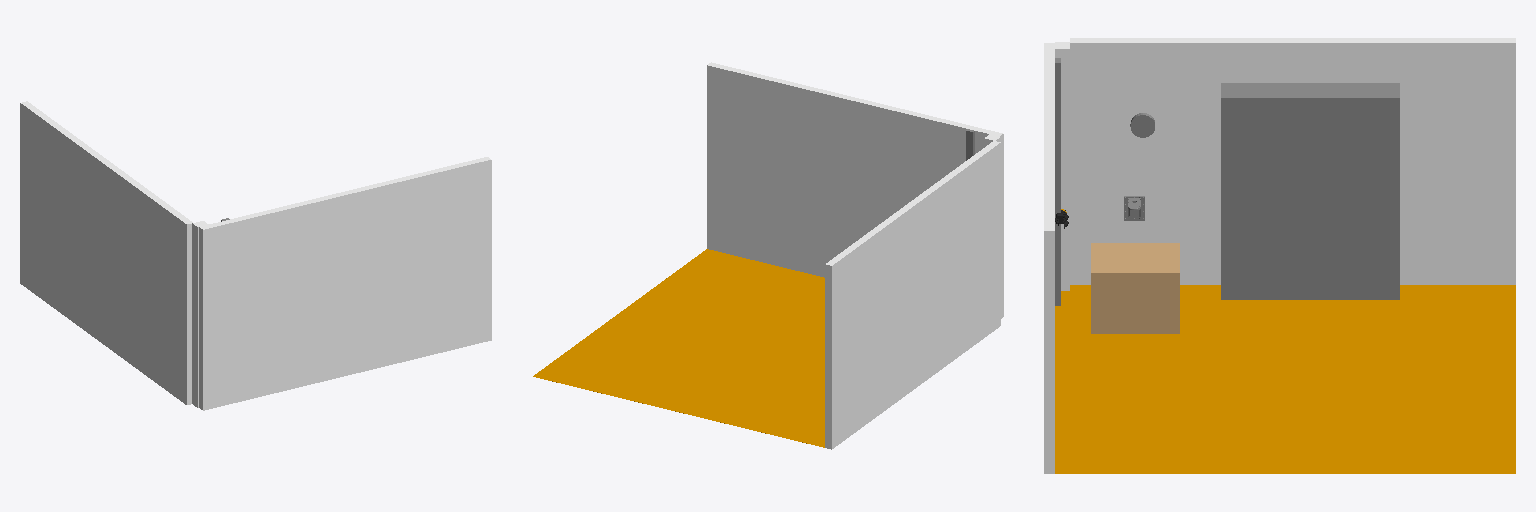
--- Render facts (derived) ---
The picture shows the robot from 3 angles, left to right: view 1: azimuth 30°, elevation 25°; view 2: azimuth 150°, elevation 25°; view 3: azimuth 270°, elevation 25°; orthographic projection.
Model tams_ur5_setup with 47 links and 46 joints (17 revolute, 29 fixed), rooted at world, posed joints at zero except 6 at the middle of their limits (s_model_finger_1_joint_1 = 0.6357, s_model_finger_1_joint_3 = -0.637, s_model_finger_2_joint_1 = 0.6357, s_model_finger_2_joint_3 = -0.637, s_model_finger_middle_joint_1 = 0.6357, s_model_finger_middle_joint_3 = -0.637).
Links seen in each view (by area): view 1: side_wall, wall, small_wall; view 2: side_wall, floor, wall; view 3: floor, wall, shelf, table, side_wall, small_wall, cable_duct, ur5_mount.
Link boxes in pixels (left/top/right/bottom): side_wall: left=199, top=157, right=491, bottom=410; wall: left=20, top=101, right=192, bottom=404; small_wall: left=192, top=221, right=208, bottom=407; side_wall: left=707, top=62, right=1003, bottom=318; floor: left=533, top=249, right=824, bottom=447; wall: left=825, top=141, right=1000, bottom=449; floor: left=1055, top=285, right=1515, bottom=473; wall: left=1070, top=38, right=1515, bottom=284; shelf: left=1221, top=83, right=1399, bottom=299; table: left=1091, top=243, right=1179, bottom=333; side_wall: left=1044, top=43, right=1054, bottom=473; small_wall: left=1055, top=42, right=1069, bottom=290; cable_duct: left=1055, top=58, right=1060, bottom=305; ur5_mount: left=1124, top=196, right=1144, bottom=220.
Bounding box of the posed robot: 5.12 × 5.29 × 3 m (x, y, z).
15 mesh visuals loaded from 14 distinct referenced files (7 Collada DAE); not drawn: 7 (reference not matched to a file when rendering).

URDF robot description (tams_ur5_setup):
<?xml version="1.0" ?>
<!-- =================================================================================== -->
<!-- |    This document was autogenerated by xacro from tams/tams_ur5_setup/tams_ur5_setup_description/urdf/tams_ur5_setup.urdf.xacro | -->
<!-- |    EDITING THIS FILE BY HAND IS NOT RECOMMENDED                                 | -->
<!-- =================================================================================== -->
<robot name="tams_ur5_setup" xmlns:xacro="http://www.ros.org/wiki/xacro">
  <!-- tams corner -->
  <material name="white">
    <color rgba="1 1 1 1"/>
  </material>
  <material name="brown">
    <color rgba="0.87 0.72 0.53 1"/>
  </material>
  <material name="lightgray">
    <color rgba="0.6 0.6 0.6 1"/>
  </material>
  <link name="floor">
    <inertial>
      <origin xyz="2.5 2.5 0"/>
      <mass value="2000"/>
      <inertia ixx="1" ixy="0" ixz="0" iyy="1" iyz="0" izz="1"/>
    </inertial>
    <visual>
      <material name="black"/>
      <origin xyz="2.5 2.4175 0"/>
      <geometry>
        <box size="5.0 5.165 0.001"/>
      </geometry>
    </visual>
    <collision>
      <origin xyz="2.5 2.4175 0"/>
      <geometry>
        <box size="5.0 5.165 0.001"/>
      </geometry>
    </collision>
  </link>
  <gazebo reference="floor">
    <material>Gazebo/Blue</material>
    <turnGravityOff>false</turnGravityOff>
    <selfCollide>true</selfCollide>
    <!-- kp: stiffness kd: damping mu1, mu2: friction -->
    <mu1>100.0</mu1>
    <mu2>100.0</mu2>
    <kp>1000000.0</kp>
    <kd>1.0</kd>
  </gazebo>
  <link name="wall">
    <inertial>
      <origin xyz="-0.06 2.5 1.5"/>
      <mass value="2000"/>
      <inertia ixx="1" ixy="0" ixz="0" iyy="1" iyz="0" izz="1"/>
    </inertial>
    <visual>
      <material name="white"/>
      <origin xyz="-0.06 2.5 1.5"/>
      <geometry>
        <box size="0.12 5.0 3.0"/>
      </geometry>
    </visual>
    <collision>
      <origin xyz="-0.06 2.5 1.5"/>
      <geometry>
        <box size="0.12 5.0 3.0"/>
      </geometry>
    </collision>
  </link>
  <gazebo reference="wall">
    <material>Gazebo/Blue</material>
    <turnGravityOff>false</turnGravityOff>
    <selfCollide>true</selfCollide>
    <!-- kp: stiffness kd: damping mu1, mu2: friction -->
    <mu1>100.0</mu1>
    <mu2>100.0</mu2>
    <kp>1000000.0</kp>
    <kd>1.0</kd>
  </gazebo>
  <!-- tilted ur5 mount - the meshes are not centered at mount point so they are adjusted to fit to the frame -->
  <link name="ur5_mount">
    <visual>
      <material name="lightgray"/>
      <origin xyz="-0.0245 -0.09 -0.28"/>
      <geometry>
        <mesh filename="package://tams_ur5_setup_description/meshes/ur5_mount_binary_v3.dae" scale="0.001 0.001 0.001"/>
      </geometry>
    </visual>
    <collision>
      <origin xyz="-0.0245 -0.09 -0.28"/>
      <geometry>
        <mesh filename="package://tams_ur5_setup_description/meshes/ur5_mount_binary_v3.dae" scale="0.001 0.001 0.001"/>
      </geometry>
    </collision>
  </link>
  <link name="side_wall">
    <inertial>
      <origin xyz="0 0 0"/>
      <mass value="2000"/>
      <inertia ixx="1" ixy="0" ixz="0" iyy="1" iyz="0" izz="1"/>
    </inertial>
    <visual>
      <material name="white"/>
      <origin xyz="0 0 0"/>
      <geometry>
        <box size="5.0 0.12 3.0"/>
      </geometry>
    </visual>
    <collision>
      <origin xyz="0 0 0.0"/>
      <geometry>
        <box size="5.0 0.12 3.0"/>
      </geometry>
    </collision>
  </link>
  <gazebo reference="side_wall">
    <material>Gazebo/Blue</material>
    <turnGravityOff>false</turnGravityOff>
    <selfCollide>true</selfCollide>
    <!-- kp: stiffness kd: damping mu1, mu2: friction -->
    <mu1>100.0</mu1>
    <mu2>100.0</mu2>
    <kp>1000000.0</kp>
    <kd>1.0</kd>
  </gazebo>
  <link name="small_wall">
    <inertial>
      <origin xyz="0 0 0"/>
      <mass value="2000"/>
      <inertia ixx="1" ixy="0" ixz="0" iyy="1" iyz="0" izz="1"/>
    </inertial>
    <visual>
      <material name="white"/>
      <origin xyz="0 0 0"/>
      <geometry>
        <box size="0.19 0.165 3.0"/>
      </geometry>
    </visual>
    <collision>
      <origin xyz="0 0 0.0"/>
      <geometry>
        <!-- the collision model is 7cm wider due to security reasons -->
        <box size="0.33 0.305 3.0"/>
      </geometry>
    </collision>
  </link>
  <gazebo reference="small_wall">
    <material>Gazebo/Blue</material>
    <turnGravityOff>false</turnGravityOff>
    <selfCollide>true</selfCollide>
    <!-- kp: stiffness kd: damping mu1, mu2: friction -->
    <mu1>100.0</mu1>
    <mu2>100.0</mu2>
    <kp>1000000.0</kp>
    <kd>1.0</kd>
  </gazebo>
  <link name="cable_duct">
    <inertial>
      <origin xyz="0 0 0"/>
      <mass value="2000"/>
      <inertia ixx="1" ixy="0" ixz="0" iyy="1" iyz="0" izz="1"/>
    </inertial>
    <visual>
      <material name="lightgray"/>
      <origin xyz="0 0 0"/>
      <geometry>
        <box size="0.13 0.06 3.0"/>
      </geometry>
    </visual>
    <collision>
      <origin xyz="0 0 0"/>
      <geometry>
        <!-- the collision model is 7cm wider then the actual duct, because of an unmodelled ethernet port -->
        <box size="0.27 0.2 3.0"/>
      </geometry>
    </collision>
  </link>
  <gazebo reference="cable_duct">
    <material>Gazebo/Blue</material>
    <turnGravityOff>false</turnGravityOff>
    <selfCollide>true</selfCollide>
    <!-- kp: stiffness kd: damping mu1, mu2: friction -->
    <mu1>100.0</mu1>
    <mu2>100.0</mu2>
    <kp>1000000.0</kp>
    <kd>1.0</kd>
  </gazebo>
  <link name="table">
    <inertial>
      <origin xyz="0 0 0.375"/>
      <mass value="10"/>
      <inertia ixx="1" ixy="0" ixz="0" iyy="1" iyz="0" izz="1"/>
    </inertial>
    <visual>
      <material name="brown"/>
      <origin xyz="0 0 0.375"/>
      <geometry>
        <box size="0.80 1.0 0.75"/>
      </geometry>
    </visual>
    <!-- <collision>
      <origin xyz="0 0 ${tableheight/2}" />
      <geometry>
        <box size="0.80 1.0 ${tableheight}" />
      </geometry>
    </collision>  -->
    <collision>
      <origin xyz="-0.2 0 0.375"/>
      <geometry>
        <box size="1.2 1.0 0.75"/>
      </geometry>
    </collision>
  </link>
  <gazebo reference="table">
    <material>Gazebo/Blue</material>
    <turnGravityOff>false</turnGravityOff>
    <selfCollide>true</selfCollide>
    <!-- kp: stiffness kd: damping mu1, mu2: friction -->
    <mu1>100.0</mu1>
    <mu2>100.0</mu2>
    <kp>1000000.0</kp>
    <kd>1.0</kd>
  </gazebo>
  <link name="table_top"/>
  <link name="shelf">
    <inertial>
      <origin xyz="1.7 0 0"/>
      <mass value="60"/>
      <inertia ixx="1" ixy="0" ixz="0" iyy="1" iyz="0" izz="1"/>
    </inertial>
    <visual>
      <material name="lightgray"/>
      <origin xyz="0 1.7 0"/>
      <geometry>
        <box size="0.4 2 2.5"/>
      </geometry>
    </visual>
    <collision>
      <origin xyz="0 1.7 0"/>
      <geometry>
        <!-- the collision model is 7cm wider due to security reasons -->
        <box size="0.54 2.14 2.5"/>
      </geometry>
    </collision>
  </link>
  <gazebo reference="shelf">
    <material>Gazebo/Orange</material>
    <turnGravityOff>false</turnGravityOff>
    <selfCollide>true</selfCollide>
    <!-- kp: stiffness kd: damping mu1, mu2: friction -->
    <mu1>100.0</mu1>
    <mu2>100.0</mu2>
    <kp>1000000.0</kp>
    <kd>1.0</kd>
  </gazebo>
  <link name="april_tag_ur5">
    <inertial>
      <origin xyz="0 0 0"/>
      <mass value="2000"/>
      <inertia ixx="1" ixy="0" ixz="0" iyy="1" iyz="0" izz="1"/>
    </inertial>
    <visual>
      <material name="lightgray"/>
      <origin xyz="0 0 0"/>
      <geometry>
        <box size="0.166 0.166 0.01"/>
      </geometry>
    </visual>
    <collision>
      <origin xyz="0 0 0.0"/>
      <geometry>
        <box size="0.166 0.166 0.01"/>
      </geometry>
    </collision>
  </link>
  <gazebo reference="april_tag_ur5">
    <material>Gazebo/Blue</material>
    <turnGravityOff>false</turnGravityOff>
    <selfCollide>true</selfCollide>
    <mu1>100.0</mu1>
    <mu2>100.0</mu2>
    <kp>1000000.0</kp>
    <kd>1.0</kd>
  </gazebo>
  <link name="clock">
    <inertial>
      <origin xyz="0 0 0"/>
      <mass value="2000"/>
      <inertia ixx="1" ixy="0" ixz="0" iyy="1" iyz="0" izz="1"/>
    </inertial>
    <visual>
      <material name="lightgray"/>
      <origin xyz="0 0 0"/>
      <geometry>
        <cylinder length="0.06" radius="0.14"/>
      </geometry>
    </visual>
    <collision>
      <origin xyz="0 0 0.0"/>
      <geometry>
        <cylinder length="0.06" radius="0.14"/>
      </geometry>
    </collision>
  </link>
  <link name="turtlebot"/>
  <link name="turtlebot_holder"/>
  <joint name="floor_wall_joint" type="fixed">
    <parent link="floor"/>
    <child link="wall"/>
    <!-- The actual wall in the lab is slightly tilted, the rotation compensates approx 1 deg -->
    <origin rpy="0 0 0" xyz="0 0 0"/>
    <!--<origin xyz="0 0 0" rpy="0 0.06 0" />-->
  </joint>
  <joint name="wall_mount_joint" type="fixed">
    <parent link="wall"/>
    <child link="ur5_mount"/>
    <origin rpy="0 0 3.14159265" xyz="0.2255 0.7245 1.085"/>
  </joint>
  <joint name="side_wall_joint" type="fixed">
    <parent link="floor"/>
    <child link="side_wall"/>
    <!--<origin xyz="2.5 -0.06 1.5" rpy="0 0 0" />-->
    <origin rpy="0 0 0" xyz="2.5 -0.225 1.5"/>
  </joint>
  <joint name="small_wall_joint" type="fixed">
    <parent link="floor"/>
    <child link="small_wall"/>
    <!--<origin xyz="2.5 -0.06 1.5" rpy="0 0 0" />-->
    <origin rpy="0 0 0" xyz="0.07 -0.0825 1.5"/>
  </joint>
  <joint name="cable_duct_joint" type="fixed">
    <parent link="floor"/>
    <child link="cable_duct"/>
    <origin rpy="0 0 0" xyz="0.475 -0.135 1.5"/>
  </joint>
  <joint name="table_joint" type="fixed">
    <parent link="floor"/>
    <child link="table"/>
    <!-- actual wall is 2.5cm further back from table, but is modelled at the position of the small ur5 adapter plate -->
    <!-- <origin xyz="0.75 0.3 0" rpy="0 0 0" /> -->
    <origin rpy="0 0 0" xyz="0.89 0.74 0"/>
  </joint>
  <joint name="table_top_joint" type="fixed">
    <parent link="table"/>
    <child link="table_top"/>
    <origin rpy="0 0 0" xyz="0 0 0.75"/>
  </joint>
  <joint name="shelf_joint" type="fixed">
    <parent link="floor"/>
    <child link="shelf"/>
    <!-- actual shelf is a little smaller -->
    <origin rpy="0 0 0" xyz="0.2 1 1.25"/>
  </joint>
  <joint name="apriltag_ur5_joint" type="fixed">
    <parent link="wall"/>
    <child link="april_tag_ur5"/>
    <!--<origin xyz="-0.015 0.75 1.494" rpy="${-pi/2-0.05} 0.0 ${-pi/2}" />-->
    <!-- offset relative to the tilted wall -->
    <origin rpy="-1.570796325 0.0 -1.570796325" xyz="-0.01 0.75 1.494"/>
    <!-- offset relative to the tilted wall -->
  </joint>
  <joint name="clock_joint" type="fixed">
    <parent link="wall"/>
    <child link="clock"/>
    <origin rpy="-1.570796325 0.0 -1.570796325" xyz="0.03 0.82 1.993"/>
    <!-- offset relative to the tilted wall -->
  </joint>
  <joint name="turtlebot_joint" type="fixed">
    <parent link="world"/>
    <child link="turtlebot"/>
    <origin rpy="0.0 0.0 0.0" xyz="0.26 1.31 0.0"/>
  </joint>
  <joint name="turtlebot_holder_joint" type="fixed">
    <parent link="turtlebot"/>
    <child link="turtlebot_holder"/>
    <origin rpy="0.0 0.0 0.0" xyz="0.04 0.0 0.41"/>
  </joint>
  <!-- arm -->
  <!-- include macro definitions -->
  <!-- Inertia parameters -->
  <!-- This mass might be incorrect -->
  <!-- Kinematic model -->
  <!-- Properties from urcontrol.conf -->
  <!--
    DH for UR5:
    a = [0.00000, -0.42500, -0.39225,  0.00000,  0.00000,  0.0000]
    d = [0.089159,  0.00000,  0.00000,  0.10915,  0.09465,  0.0823]
    alpha = [ 1.570796327, 0, 0, 1.570796327, -1.570796327, 0 ]
    q_home_offset = [0, -1.570796327, 0, -1.570796327, 0, 0]
    joint_direction = [-1, -1, 1, 1, 1, 1]
    mass = [3.7000, 8.3930, 2.2750, 1.2190, 1.2190, 0.1879]
    center_of_mass = [ [0, -0.02561, 0.00193], [0.2125, 0, 0.11336], [0.11993, 0.0, 0.0265], [0, -0.0018, 0.01634], [0, 0.0018,0.01634], [0, 0, -0.001159] ]
  -->
  <!-- Arbitrary offsets for shoulder/elbow joints -->
  <!-- measured from model -->
  <!-- measured from model -->
  <!-- link lengths used in model -->
  <!--property name="shoulder_height" value="0.089159" /-->
  <!--property name="shoulder_offset" value="0.13585" /-->
  <!-- shoulder_offset - elbow_offset + wrist_1_length = 0.10915 -->
  <!--property name="upper_arm_length" value="0.42500" /-->
  <!--property name="elbow_offset" value="0.1197" /-->
  <!-- CAD measured -->
  <!--property name="forearm_length" value="0.39225" /-->
  <!--property name="wrist_1_length" value="0.093" /-->
  <!-- CAD measured -->
  <!--property name="wrist_2_length" value="0.09465" /-->
  <!-- In CAD this distance is 0.930, but in the spec it is 0.09465 -->
  <!--property name="wrist_3_length" value="0.0823" /-->
  <!-- manually measured -->
  <!-- manually measured -->
  <!-- manually measured -->
  <!-- manually measured -->
  <!-- manually measured -->
  <!-- 
    The parameter xamla_cap enables optional support for Xamla's rounded cap (wrist 2), 
    increasing the collision free space. 
    If set, visual and collision meshes are loaded from the files provided in the following
    repository: https://github.com/Xamla/xamla_egomo.
    More information on the cap and the 3D-printable models can be found at:
    https://github.com/Xamla/xamla_egomo/tree/master/egomo_3d_printed_parts/egomo-1  
  -->
  <!-- arm -->
  <link name="ur5_base_link">
    <visual>
      <geometry>
        <mesh filename="package://ur_description/meshes/ur5/visual/base.dae"/>
      </geometry>
      <material name="LightGrey">
        <color rgba="0.7 0.7 0.7 1.0"/>
      </material>
    </visual>
    <collision>
      <geometry>
        <mesh filename="package://ur_description/meshes/ur5/collision/base.stl"/>
      </geometry>
    </collision>
    <inertial>
      <mass value="4.0"/>
      <origin rpy="0 0 0" xyz="0.0 0.0 0.0"/>
      <inertia ixx="0.00443333156" ixy="0.0" ixz="0.0" iyy="0.00443333156" iyz="0.0" izz="0.0072"/>
    </inertial>
  </link>
  <joint name="ur5_shoulder_pan_joint" type="revolute">
    <parent link="ur5_base_link"/>
    <child link="ur5_shoulder_link"/>
    <origin rpy="0.0 0.0 0.0" xyz="0.0 0.0 0.089159"/>
    <axis xyz="0 0 1"/>
    <limit effort="150.0" lower="-3.14159265" upper="3.14159265" velocity="3.15"/>
    <dynamics damping="0.0" friction="0.0"/>
  </joint>
  <link name="ur5_shoulder_link">
    <visual>
      <geometry>
        <mesh filename="package://ur_description/meshes/ur5/visual/shoulder.dae"/>
      </geometry>
      <material name="LightGrey">
        <color rgba="0.7 0.7 0.7 1.0"/>
      </material>
    </visual>
    <collision>
      <geometry>
        <mesh filename="package://ur_description/meshes/ur5/collision/shoulder.stl"/>
      </geometry>
    </collision>
    <inertial>
      <mass value="3.7"/>
      <origin rpy="0 0 0" xyz="0.0 0.0 0.0"/>
      <inertia ixx="0.010267495893" ixy="0.0" ixz="0.0" iyy="0.010267495893" iyz="0.0" izz="0.00666"/>
    </inertial>
  </link>
  <joint name="ur5_shoulder_lift_joint" type="revolute">
    <parent link="ur5_shoulder_link"/>
    <child link="ur5_upper_arm_link"/>
    <origin rpy="0.0 1.570796325 0.0" xyz="0.0 0.13585 0.0"/>
    <axis xyz="0 1 0"/>
    <limit effort="150.0" lower="-3.9269908125" upper="0.7853981625" velocity="3.15"/>
    <dynamics damping="0.0" friction="0.0"/>
  </joint>
  <link name="ur5_upper_arm_link">
    <visual>
      <geometry>
        <mesh filename="package://ur_description/meshes/ur5/visual/upperarm.dae"/>
      </geometry>
      <material name="LightGrey">
        <color rgba="0.7 0.7 0.7 1.0"/>
      </material>
    </visual>
    <collision>
      <geometry>
        <mesh filename="package://ur_description/meshes/ur5/collision/upperarm.stl"/>
      </geometry>
    </collision>
    <inertial>
      <mass value="8.393"/>
      <origin rpy="0 0 0" xyz="0.0 0.0 0.28"/>
      <inertia ixx="0.22689067591" ixy="0.0" ixz="0.0" iyy="0.22689067591" iyz="0.0" izz="0.0151074"/>
    </inertial>
  </link>
  <joint name="ur5_elbow_joint" type="revolute">
    <parent link="ur5_upper_arm_link"/>
    <child link="ur5_forearm_link"/>
    <origin rpy="0.0 0.0 0.0" xyz="0.0 -0.1197 0.425"/>
    <axis xyz="0 1 0"/>
    <limit effort="150.0" lower="-3.14159265" upper="0.0" velocity="3.15"/>
    <dynamics damping="0.0" friction="0.0"/>
  </joint>
  <link name="ur5_forearm_link">
    <visual>
      <geometry>
        <mesh filename="package://ur_description/meshes/ur5/visual/forearm.dae"/>
      </geometry>
      <material name="LightGrey">
        <color rgba="0.7 0.7 0.7 1.0"/>
      </material>
    </visual>
    <collision>
      <geometry>
        <mesh filename="package://ur_description/meshes/ur5/collision/forearm.stl"/>
      </geometry>
    </collision>
    <inertial>
      <mass value="2.275"/>
      <origin rpy="0 0 0" xyz="0.0 0.0 0.25"/>
      <inertia ixx="0.049443313556" ixy="0.0" ixz="0.0" iyy="0.049443313556" iyz="0.0" izz="0.004095"/>
    </inertial>
  </link>
  <joint name="ur5_wrist_1_joint" type="revolute">
    <parent link="ur5_forearm_link"/>
    <child link="ur5_wrist_1_link"/>
    <origin rpy="0.0 1.570796325 0.0" xyz="0.0 0.0 0.39225"/>
    <axis xyz="0 1 0"/>
    <limit effort="28.0" lower="-3.14159265" upper="3.14159265" velocity="3.2"/>
    <dynamics damping="0.0" friction="0.0"/>
  </joint>
  <link name="ur5_wrist_1_link">
    <visual>
      <geometry>
        <mesh filename="package://ur_description/meshes/ur5/visual/wrist1.dae"/>
      </geometry>
      <material name="LightGrey">
        <color rgba="0.7 0.7 0.7 1.0"/>
      </material>
    </visual>
    <collision>
      <geometry>
        <mesh filename="package://ur_description/meshes/ur5/collision/wrist1.stl"/>
      </geometry>
    </collision>
    <inertial>
      <mass value="1.219"/>
      <origin rpy="0 0 0" xyz="0.0 0.0 0.0"/>
      <inertia ixx="0.111172755531" ixy="0.0" ixz="0.0" iyy="0.111172755531" iyz="0.0" izz="0.21942"/>
    </inertial>
  </link>
  <joint name="ur5_wrist_2_joint" type="revolute">
    <parent link="ur5_wrist_1_link"/>
    <child link="ur5_wrist_2_link"/>
    <origin rpy="0.0 0.0 0.0" xyz="0.0 0.093 0.0"/>
    <axis xyz="0 0 1"/>
    <!-- <xacro:unless value="${joint_limited}">
        <limit lower="${-2.0 * pi}" upper="${2.0 * pi}" effort="28.0" velocity="3.2"/>
      </xacro:unless>
      <xacro:if value="${joint_limited}">
        <limit lower="${-pi}" upper="${pi}" effort="28.0" velocity="3.2"/>
      </xacro:if>-->
    <limit effort="28.0" lower="-6.2831853" upper="6.2831853" velocity="3.2"/>
    <dynamics damping="0.0" friction="0.0"/>
  </joint>
  <link name="ur5_wrist_2_link">
    <visual>
      <geometry>
        <mesh filename="package://ur_description/meshes/ur5/visual/wrist2_rounded.dae"/>
      </geometry>
      <material name="LightGrey">
        <color rgba="0.7 0.7 0.7 1.0"/>
      </material>
    </visual>
    <collision>
      <geometry>
        <mesh filename="package://ur_description/meshes/ur5/collision/wrist2_rounded.stl"/>
      </geometry>
    </collision>
    <inertial>
      <mass value="1.219"/>
      <origin rpy="0 0 0" xyz="0.0 0.0 0.0"/>
      <inertia ixx="0.111172755531" ixy="0.0" ixz="0.0" iyy="0.111172755531" iyz="0.0" izz="0.21942"/>
    </inertial>
  </link>
  <joint name="ur5_wrist_3_joint" type="revolute">
    <parent link="ur5_wrist_2_link"/>
    <child link="ur5_wrist_3_link"/>
    <origin rpy="0.0 0.0 0.0" xyz="0.0 0.0 0.09465"/>
    <axis xyz="0 1 0"/>
    <!-- <xacro:unless value="${joint_limited}">
        <limit lower="${-2.0 * pi}" upper="${2.0 * pi}" effort="28.0" velocity="3.2"/>
      </xacro:unless>
      <xacro:if value="${joint_limited}">
        <limit lower="${-pi}" upper="${pi}" effort="28.0" velocity="3.2"/>
      </xacro:if>-->
    <limit effort="28.0" lower="-6.2831853" upper="6.2831853" velocity="3.2"/>
    <dynamics damping="0.0" friction="0.0"/>
  </joint>
  <link name="ur5_wrist_3_link">
    <visual>
      <geometry>
        <mesh filename="package://ur_description/meshes/ur5/visual/wrist3.dae"/>
      </geometry>
      <material name="LightGrey">
        <color rgba="0.7 0.7 0.7 1.0"/>
      </material>
    </visual>
    <collision>
      <geometry>
        <mesh filename="package://ur_description/meshes/ur5/collision/wrist3.stl"/>
      </geometry>
    </collision>
    <inertial>
      <mass value="0.1879"/>
      <origin rpy="0 0 0" xyz="0.0 0.0 0.0"/>
      <inertia ixx="0.0171364731454" ixy="0.0" ixz="0.0" iyy="0.0171364731454" iyz="0.0" izz="0.033822"/>
    </inertial>
  </link>
  <joint name="ur5_ee_fixed_joint" type="fixed">
    <parent link="ur5_wrist_3_link"/>
    <child link="ur5_ee_link"/>
    <origin rpy="0.0 0.0 1.570796325" xyz="0.0 0.0823 0.0"/>
  </joint>
  <link name="ur5_ee_link">
    <collision>
      <geometry>
        <box size="0.01 0.01 0.01"/>
      </geometry>
      <origin rpy="0 0 0" xyz="-0.01 0 0"/>
    </collision>
  </link>
  <transmission name="ur5_shoulder_pan_trans">
    <type>transmission_interface/SimpleTransmission</type>
    <joint name="ur5_shoulder_pan_joint">
      <hardwareInterface>PositionJointInterface</hardwareInterface>
    </joint>
    <actuator name="ur5_shoulder_pan_motor">
      <mechanicalReduction>1</mechanicalReduction>
    </actuator>
  </transmission>
  <transmission name="ur5_shoulder_lift_trans">
    <type>transmission_interface/SimpleTransmission</type>
    <joint name="ur5_shoulder_lift_joint">
      <hardwareInterface>PositionJointInterface</hardwareInterface>
    </joint>
    <actuator name="ur5_shoulder_lift_motor">
      <mechanicalReduction>1</mechanicalReduction>
    </actuator>
  </transmission>
  <transmission name="ur5_elbow_trans">
    <type>transmission_interface/SimpleTransmission</type>
    <joint name="ur5_elbow_joint">
      <hardwareInterface>PositionJointInterface</hardwareInterface>
    </joint>
    <actuator name="ur5_elbow_motor">
      <mechanicalReduction>1</mechanicalReduction>
    </actuator>
  </transmission>
  <transmission name="ur5_wrist_1_trans">
    <type>transmission_interface/SimpleTransmission</type>
    <joint name="ur5_wrist_1_joint">
      <hardwareInterface>PositionJointInterface</hardwareInterface>
    </joint>
    <actuator name="ur5_wrist_1_motor">
      <mechanicalReduction>1</mechanicalReduction>
    </actuator>
  </transmission>
  <transmission name="ur5_wrist_2_trans">
    <type>transmission_interface/SimpleTransmission</type>
    <joint name="ur5_wrist_2_joint">
      <hardwareInterface>PositionJointInterface</hardwareInterface>
    </joint>
    <actuator name="ur5_wrist_2_motor">
      <mechanicalReduction>1</mechanicalReduction>
    </actuator>
  </transmission>
  <transmission name="ur5_wrist_3_trans">
    <type>transmission_interface/SimpleTransmission</type>
    <joint name="ur5_wrist_3_joint">
      <hardwareInterface>PositionJointInterface</hardwareInterface>
    </joint>
    <actuator name="ur5_wrist_3_motor">
      <mechanicalReduction>1</mechanicalReduction>
    </actuator>
  </transmission>
  <!-- nothing to do here at the moment -->
  <!-- ROS base_link to UR 'Base' Coordinates transform -->
  <link name="ur5_base"/>
  <joint name="ur5_base_link-base_fixed_joint" type="fixed">
    <!-- NOTE: this rotation is only needed as long as base_link itself is
                 not corrected wrt the real robot (ie: rotated over 180
                 degrees)
      -->
    <origin rpy="0 0 -3.14159265" xyz="0 0 0"/>
    <parent link="ur5_base_link"/>
    <child link="ur5_base"/>
  </joint>
  <!-- Frame coincident with all-zeros TCP on UR controller -->
  <link name="ur5_tool0"/>
  <joint name="ur5_wrist_3_link-tool0_fixed_joint" type="fixed">
    <origin rpy="-1.570796325 0 0" xyz="0 0.0823 0"/>
    <parent link="ur5_wrist_3_link"/>
    <child link="ur5_tool0"/>
  </joint>
  <!-- ft_adapter -->
  <link name="ft_adapter">
    <!-- TODO values for inertial are not correct -->
    <inertial>
      <mass value="0.2"/>
      <origin xyz="0.0 0.0 0.0"/>
      <inertia ixx="0.002708332" ixy="0.0" ixz="0.0" iyy="0.000708333" iyz="0.0" izz="0.003333332"/>
    </inertial>
    <visual>
      <origin rpy="0 0 0.0" xyz="0.0 0 0.0"/>
      <geometry>
        <box size="0.088 0.088 0.009"/>
      </geometry>
      <material name="gray">
        <color rgba="0.2 0.2 0.2 1"/>
      </material>
    </visual>
    <collision>
      <origin rpy="0 0 0.0" xyz="0.0 0 0.0"/>
      <geometry>
        <box size="0.088 0.088 0.009"/>
      </geometry>
    </collision>
  </link>
  <joint name="ft_adapter_joint" type="fixed">
    <origin rpy="0.0 1.570796325 0.0" xyz="0.0045 0.0 0.0"/>
    <child link="ft_adapter"/>
    <parent link="ur5_ee_link"/>
  </joint>
  <!-- ft150 -->
  <!-- mount the fts to the robot -->
  <joint name="ft_fts_fix" type="fixed">
    <!--In most cases origin would be flange adapter plate: <origin xyz="0 0 0.009" rpy="0 0 0"/> /-->
    <origin rpy="0.0 -1.570796325 3.14159265" xyz="0.009 0.0 0.0"/>
    <parent link="ur5_ee_link"/>
    <child link="ft_fts_robotside"/>
  </joint>
  <link name="ft_fts_robotside">
    <inertial>
      <origin rpy="0 0 0" xyz="0 0 0.01875"/>
      <mass value="0.65"/>
      <inertia ixx="0.000661171875" ixy="0" ixz="0" iyy="0.000661171875" iyz="0" izz="0.00117"/>
    </inertial>
    <visual>
      <origin rpy="0 0 0" xyz="0 0 0"/>
      <geometry>
        <mesh filename="package://robotiq_force_torque_sensor/meshes/visual/robotiq_fts150.dae"/>
      </geometry>
      <material name="black"/>
    </visual>
    <collision>
      <origin rpy="0 0 0" xyz="0 0 0"/>
      <geometry>
        <mesh filename="package://robotiq_force_torque_sensor/meshes/collision/robotiq_fts150.dae"/>
      </geometry>
    </collision>
  </link>
  <!-- virtual measurement frame -->
  <joint name="ft_measurment_joint" type="fixed">
    <origin rpy="0 0 0" xyz="0 0 0.01625"/>
    <parent link="ft_fts_robotside"/>
    <child link="ft_robotiq_force_torque_frame_id"/>
  </joint>
  <link name="ft_robotiq_force_torque_frame_id"/>
  <!-- toolside frame -->
  <joint name="ft_toolside_joint" type="fixed">
    <origin rpy="0 0 0" xyz="0 0 0.0375"/>
    <parent link="ft_fts_robotside"/>
    <child link="ft_fts_toolside"/>
  </joint>
  <link name="ft_fts_toolside"/>
  <!-- tool0 frame -->
  <link name="tool0"/>
  <joint name="ft_fts_toolside_tool0" type="fixed">
    <parent link="ft_fts_toolside"/>
    <child link="tool0"/>
    <origin rpy="0.0 -1.570796325 0.0" xyz="0.0 0.0 0.0"/>
  </joint>
  <!-- s_model_adapter -->
  <link name="s_model_adapter">
    <!-- TODO values for inertial are not correct -->
    <inertial>
      <mass value="0.2"/>
      <origin xyz="0.0 0.0 0.0"/>
      <inertia ixx="0.002708332" ixy="0.0" ixz="0.0" iyy="0.000708333" iyz="0.0" izz="0.003333332"/>
    </inertial>
    <visual>
      <origin rpy="0 0 0.0" xyz="0.0 0 0.0"/>
      <geometry>
        <cylinder length="0.035" radius="0.06"/>
      </geometry>
      <material name="gray">
        <color rgba="0.2 0.2 0.2 1"/>
      </material>
    </visual>
    <visual>
      <origin rpy="0 0 0.0" xyz="0.0725 0 0"/>
      <geometry>
        <box size="0.035 0.035 0.035"/>
      </geometry>
      <material name="gray">
        <color rgba="0.2 0.2 0.2 1"/>
      </material>
    </visual>
    <collision>
      <origin rpy="0 0 0.0" xyz="0.0 0 0.0"/>
      <geometry>
        <cylinder length="0.035" radius="0.06"/>
      </geometry>
    </collision>
    <collision>
      <origin rpy="0 0 0.0" xyz="0.0725 0 0"/>
      <geometry>
        <box size="0.035 0.035 0.035"/>
      </geometry>
    </collision>
  </link>
  <joint name="s_model_adapter_joint" type="fixed">
    <origin rpy="0.0 0.0 0.0" xyz="0.0 0.0 0.015"/>
    <child link="s_model_adapter"/>
    <parent link="ft_fts_toolside"/>
  </joint>
  <!-- the adaptive gripper -->
  <!-- link list -->
  <link name="s_model_finger_1_link_0">
    <visual>
      <origin rpy="0 0 0" xyz="0.020 0 0"/>
      <geometry>
        <mesh filename="package://robotiq_s_model_visualization/meshes/s-model_articulated/visual/link_0.dae"/>
      </geometry>
      <material name="gray">
        <color rgba="0.2 0.2 0.2 1"/>
      </material>
    </visual>
    <collision>
      <origin rpy="0 0 0" xyz="0.020 0 0"/>
      <geometry>
        <mesh filename="package://robotiq_s_model_visualization/meshes/s-model_articulated/collision/link_0.dae"/>
      </geometry>
      <material name="yellow">
        <color rgba="0 1 1 1"/>
      </material>
    </collision>
    <inertial>
      <origin rpy="0 0 0" xyz="0 0 0"/>
      <mass value="0.05"/>
      <inertia ixx="0.01" ixy="-0.00002" ixz="0.00001" iyy="0.0008" iyz="0" izz="0.001"/>
    </inertial>
  </link>
  <link name="s_model_finger_1_link_1">
    <visual>
      <origin rpy="0 0 -0.52" xyz="0.050 -.028 0"/>
      <geometry>
        <mesh filename="package://robotiq_s_model_visualization/meshes/s-model_articulated/visual/link_1.dae"/>
      </geometry>
      <material name="gray"/>
    </visual>
    <collision>
      <origin rpy="0 0 -0.52" xyz="0.050 -.028 0"/>
      <geometry>
        <mesh filename="package://robotiq_s_model_visualization/meshes/s-model_articulated/collision/link_1.dae"/>
      </geometry>
      <material name="yellow"/>
    </collision>
    <inertial>
      <origin rpy="0 0 0" xyz="0 0 0"/>
      <mass value="0.15"/>
      <inertia ixx="0.001859" ixy="-0.000376" ixz="0.000028" iyy="0.012756" iyz="0" izz="0.0024"/>
    </inertial>
  </link>
  <link name="s_model_finger_1_link_2">
    <!--
			NOTE: This link has an offset in the z-direction based on the models that were
			used to generate grap-it poses.  With the offset below the model appears visually
			correct, but it is suspect.
			-->
    <visual>
      <origin rpy="0 0 0" xyz="0.039 0 0.0075"/>
      <geometry>
        <mesh filename="package://robotiq_s_model_visualization/meshes/s-model_articulated/visual/link_2.dae"/>
      </geometry>
      <material name="gray"/>
    </visual>
    <collision>
      <origin rpy="0 0 0" xyz="0.039 0 0.0075"/>
      <geometry>
        <mesh filename="package://robotiq_s_model_visualization/meshes/s-model_articulated/collision/link_2.dae"/>
      </geometry>
      <material name="yellow"/>
    </collision>
    <inertial>
      <origin rpy="0 0 0" xyz="0 0 0"/>
      <mass value="0.15"/>
      <inertia ixx="0.001859" ixy="-0.000376" ixz="0.000028" iyy="0.012756" iyz="0" izz="0.0024"/>
    </inertial>
  </link>
  <link name="s_model_finger_1_link_3">
    <visual>
      <origin rpy="0 0 0.52" xyz="0 0 0"/>
      <geometry>
        <mesh filename="package://robotiq_s_model_visualization/meshes/s-model_articulated/visual/link_3.dae"/>
      </geometry>
      <material name="gray"/>
    </visual>
    <collision>
      <origin rpy="0 0 0.52" xyz="0 0 0"/>
      <geometry>
        <mesh filename="package://robotiq_s_model_visualization/meshes/s-model_articulated/collision/link_3.dae"/>
      </geometry>
      <material name="yellow"/>
    </collision>
    <inertial>
      <origin rpy="0 0 0" xyz="0 0 0"/>
      <mass value="0.05"/>
      <inertia ixx="0.001239" ixy="-0.000251" ixz="0.000019" iyy="0.00085" iyz="0" izz="0.001632"/>
    </inertial>
  </link>
  <!-- end of link list -->
  <!-- joint list -->
  <joint name="s_model_finger_1_joint_1" type="revolute">
    <parent link="s_model_finger_1_link_0"/>
    <child link="s_model_finger_1_link_1"/>
    <axis xyz="0 0 1"/>
    <origin rpy="0 0 0" xyz="0.020 0 0"/>
    <limit effort="100" lower="0.0495" upper="1.2218" velocity="100"/>
  </joint>
  <joint name="s_model_finger_1_joint_2" type="revolute">
    <parent link="s_model_finger_1_link_1"/>
    <child link="s_model_finger_1_link_2"/>
    <axis xyz="0 0 1"/>
    <origin rpy="0 0 -0.52" xyz="0.050 -.028 0"/>
    <limit effort="100" lower="0.0" upper="1.5708" velocity="100"/>
  </joint>
  <joint name="s_model_finger_1_joint_3" type="revolute">
    <parent link="s_model_finger_1_link_2"/>
    <child link="s_model_finger_1_link_3"/>
    <axis xyz="0 0 1"/>
    <origin rpy="0 0 0" xyz="0.039 0 0"/>
    <limit effort="100" lower="-1.2217" upper="-0.0523" velocity="100"/>
  </joint>
  <!-- end of joint list -->
  <!-- link list -->
  <link name="s_model_finger_2_link_0">
    <visual>
      <origin rpy="0 0 0" xyz="0.020 0 0"/>
      <geometry>
        <mesh filename="package://robotiq_s_model_visualization/meshes/s-model_articulated/visual/link_0.dae"/>
      </geometry>
      <material name="gray">
        <color rgba="0.2 0.2 0.2 1"/>
      </material>
    </visual>
    <collision>
      <origin rpy="0 0 0" xyz="0.020 0 0"/>
      <geometry>
        <mesh filename="package://robotiq_s_model_visualization/meshes/s-model_articulated/collision/link_0.dae"/>
      </geometry>
      <material name="yellow">
        <color rgba="0 1 1 1"/>
      </material>
    </collision>
    <inertial>
      <origin rpy="0 0 0" xyz="0 0 0"/>
      <mass value="0.05"/>
      <inertia ixx="0.01" ixy="-0.00002" ixz="0.00001" iyy="0.0008" iyz="0" izz="0.001"/>
    </inertial>
  </link>
  <link name="s_model_finger_2_link_1">
    <visual>
      <origin rpy="0 0 -0.52" xyz="0.050 -.028 0"/>
      <geometry>
        <mesh filename="package://robotiq_s_model_visualization/meshes/s-model_articulated/visual/link_1.dae"/>
      </geometry>
      <material name="gray"/>
    </visual>
    <collision>
      <origin rpy="0 0 -0.52" xyz="0.050 -.028 0"/>
      <geometry>
        <mesh filename="package://robotiq_s_model_visualization/meshes/s-model_articulated/collision/link_1.dae"/>
      </geometry>
      <material name="yellow"/>
    </collision>
    <inertial>
      <origin rpy="0 0 0" xyz="0 0 0"/>
      <mass value="0.15"/>
      <inertia ixx="0.001859" ixy="-0.000376" ixz="0.000028" iyy="0.012756" iyz="0" izz="0.0024"/>
    </inertial>
  </link>
  <link name="s_model_finger_2_link_2">
    <!--
			NOTE: This link has an offset in the z-direction based on the models that were
			used to generate grap-it poses.  With the offset below the model appears visually
			correct, but it is suspect.
			-->
    <visual>
      <origin rpy="0 0 0" xyz="0.039 0 0.0075"/>
      <geometry>
        <mesh filename="package://robotiq_s_model_visualization/meshes/s-model_articulated/visual/link_2.dae"/>
      </geometry>
      <material name="gray"/>
    </visual>
    <collision>
      <origin rpy="0 0 0" xyz="0.039 0 0.0075"/>
      <geometry>
        <mesh filename="package://robotiq_s_model_visualization/meshes/s-model_articulated/collision/link_2.dae"/>
      </geometry>
      <material name="yellow"/>
    </collision>
    <inertial>
      <origin rpy="0 0 0" xyz="0 0 0"/>
      <mass value="0.15"/>
      <inertia ixx="0.001859" ixy="-0.000376" ixz="0.000028" iyy="0.012756" iyz="0" izz="0.0024"/>
    </inertial>
  </link>
  <link name="s_model_finger_2_link_3">
    <visual>
      <origin rpy="0 0 0.52" xyz="0 0 0"/>
      <geometry>
        <mesh filename="package://robotiq_s_model_visualization/meshes/s-model_articulated/visual/link_3.dae"/>
      </geometry>
      <material name="gray"/>
    </visual>
    <collision>
      <origin rpy="0 0 0.52" xyz="0 0 0"/>
      <geometry>
        <mesh filename="package://robotiq_s_model_visualization/meshes/s-model_articulated/collision/link_3.dae"/>
      </geometry>
      <material name="yellow"/>
    </collision>
    <inertial>
      <origin rpy="0 0 0" xyz="0 0 0"/>
      <mass value="0.05"/>
      <inertia ixx="0.001239" ixy="-0.000251" ixz="0.000019" iyy="0.00085" iyz="0" izz="0.001632"/>
    </inertial>
  </link>
  <!-- end of link list -->
  <!-- joint list -->
  <joint name="s_model_finger_2_joint_1" type="revolute">
    <parent link="s_model_finger_2_link_0"/>
    <child link="s_model_finger_2_link_1"/>
    <axis xyz="0 0 1"/>
    <origin rpy="0 0 0" xyz="0.020 0 0"/>
    <limit effort="100" lower="0.0495" upper="1.2218" velocity="100"/>
  </joint>
  <joint name="s_model_finger_2_joint_2" type="revolute">
    <parent link="s_model_finger_2_link_1"/>
    <child link="s_model_finger_2_link_2"/>
    <axis xyz="0 0 1"/>
    <origin rpy="0 0 -0.52" xyz="0.050 -.028 0"/>
    <limit effort="100" lower="0.0" upper="1.5708" velocity="100"/>
  </joint>
  <joint name="s_model_finger_2_joint_3" type="revolute">
    <parent link="s_model_finger_2_link_2"/>
    <child link="s_model_finger_2_link_3"/>
    <axis xyz="0 0 1"/>
    <origin rpy="0 0 0" xyz="0.039 0 0"/>
    <limit effort="100" lower="-1.2217" upper="-0.0523" velocity="100"/>
  </joint>
  <!-- end of joint list -->
  <!-- link list -->
  <link name="s_model_finger_middle_link_0">
    <visual>
      <origin rpy="0 0 0" xyz="0.020 0 0"/>
      <geometry>
        <mesh filename="package://robotiq_s_model_visualization/meshes/s-model_articulated/visual/link_0.dae"/>
      </geometry>
      <material name="gray">
        <color rgba="0.2 0.2 0.2 1"/>
      </material>
    </visual>
    <collision>
      <origin rpy="0 0 0" xyz="0.020 0 0"/>
      <geometry>
        <mesh filename="package://robotiq_s_model_visualization/meshes/s-model_articulated/collision/link_0.dae"/>
      </geometry>
      <material name="yellow">
        <color rgba="0 1 1 1"/>
      </material>
    </collision>
    <inertial>
      <origin rpy="0 0 0" xyz="0 0 0"/>
      <mass value="0.05"/>
      <inertia ixx="0.01" ixy="-0.00002" ixz="0.00001" iyy="0.0008" iyz="0" izz="0.001"/>
    </inertial>
  </link>
  <link name="s_model_finger_middle_link_1">
    <visual>
      <origin rpy="0 0 -0.52" xyz="0.050 -.028 0"/>
      <geometry>
        <mesh filename="package://robotiq_s_model_visualization/meshes/s-model_articulated/visual/link_1.dae"/>
      </geometry>
      <material name="gray"/>
    </visual>
    <collision>
      <origin rpy="0 0 -0.52" xyz="0.050 -.028 0"/>
      <geometry>
        <mesh filename="package://robotiq_s_model_visualization/meshes/s-model_articulated/collision/link_1.dae"/>
      </geometry>
      <material name="yellow"/>
    </collision>
    <inertial>
      <origin rpy="0 0 0" xyz="0 0 0"/>
      <mass value="0.15"/>
      <inertia ixx="0.001859" ixy="-0.000376" ixz="0.000028" iyy="0.012756" iyz="0" izz="0.0024"/>
    </inertial>
  </link>
  <link name="s_model_finger_middle_link_2">
    <!--
			NOTE: This link has an offset in the z-direction based on the models that were
			used to generate grap-it poses.  With the offset below the model appears visually
			correct, but it is suspect.
			-->
    <visual>
      <origin rpy="0 0 0" xyz="0.039 0 0.0075"/>
      <geometry>
        <mesh filename="package://robotiq_s_model_visualization/meshes/s-model_articulated/visual/link_2.dae"/>
      </geometry>
      <material name="gray"/>
    </visual>
    <collision>
      <origin rpy="0 0 0" xyz="0.039 0 0.0075"/>
      <geometry>
        <mesh filename="package://robotiq_s_model_visualization/meshes/s-model_articulated/collision/link_2.dae"/>
      </geometry>
      <material name="yellow"/>
    </collision>
    <inertial>
      <origin rpy="0 0 0" xyz="0 0 0"/>
      <mass value="0.15"/>
      <inertia ixx="0.001859" ixy="-0.000376" ixz="0.000028" iyy="0.012756" iyz="0" izz="0.0024"/>
    </inertial>
  </link>
  <link name="s_model_finger_middle_link_3">
    <visual>
      <origin rpy="0 0 0.52" xyz="0 0 0"/>
      <geometry>
        <mesh filename="package://robotiq_s_model_visualization/meshes/s-model_articulated/visual/link_3.dae"/>
      </geometry>
      <material name="gray"/>
    </visual>
    <collision>
      <origin rpy="0 0 0.52" xyz="0 0 0"/>
      <geometry>
        <mesh filename="package://robotiq_s_model_visualization/meshes/s-model_articulated/collision/link_3.dae"/>
      </geometry>
      <material name="yellow"/>
    </collision>
    <inertial>
      <origin rpy="0 0 0" xyz="0 0 0"/>
      <mass value="0.05"/>
      <inertia ixx="0.001239" ixy="-0.000251" ixz="0.000019" iyy="0.00085" iyz="0" izz="0.001632"/>
    </inertial>
  </link>
  <!-- end of link list -->
  <!-- joint list -->
  <joint name="s_model_finger_middle_joint_1" type="revolute">
    <parent link="s_model_finger_middle_link_0"/>
    <child link="s_model_finger_middle_link_1"/>
    <axis xyz="0 0 1"/>
    <origin rpy="0 0 0" xyz="0.020 0 0"/>
    <limit effort="100" lower="0.0495" upper="1.2218" velocity="100"/>
  </joint>
  <joint name="s_model_finger_middle_joint_2" type="revolute">
    <parent link="s_model_finger_middle_link_1"/>
    <child link="s_model_finger_middle_link_2"/>
    <axis xyz="0 0 1"/>
    <origin rpy="0 0 -0.52" xyz="0.050 -.028 0"/>
    <limit effort="100" lower="0.0" upper="1.5708" velocity="100"/>
  </joint>
  <joint name="s_model_finger_middle_joint_3" type="revolute">
    <parent link="s_model_finger_middle_link_2"/>
    <child link="s_model_finger_middle_link_3"/>
    <axis xyz="0 0 1"/>
    <origin rpy="0 0 0" xyz="0.039 0 0"/>
    <limit effort="100" lower="-1.2217" upper="-0.0523" velocity="100"/>
  </joint>
  <!-- end of joint list -->
  <!-- link list -->
  <link name="s_model_palm">
    <visual>
      <geometry>
        <mesh filename="package://robotiq_s_model_visualization/meshes/s-model_articulated/visual/palm.dae"/>
      </geometry>
      <material name="gray">
        <color rgba="0.2 0.2 0.2 1"/>
      </material>
    </visual>
    <collision>
      <geometry>
        <mesh filename="package://robotiq_s_model_visualization/meshes/s-model_articulated/collision/palm.dae"/>
      </geometry>
      <material name="yellow">
        <color rgba="0 1 1 1"/>
      </material>
    </collision>
  </link>
  <link name="s_model_tool0"/>
  <inertial>
    <origin rpy="0 0 0" xyz="0 0 0"/>
    <mass value="1.3"/>
    <inertia ixx="0.006012" ixy="0.000079" ixz="-0.00024" iyy="0.012892" iyz="0" izz="0.002435"/>
  </inertial>
  <!-- end of link list -->
  <!-- joint list -->
  <joint name="s_model_palm_finger_1_joint" type="revolute">
    <parent link="s_model_palm"/>
    <child link="s_model_finger_1_link_0"/>
    <axis xyz="0 1 0"/>
    <origin rpy="0 3.1416 -1.57" xyz="-0.0455 0.0214 0.036"/>
    <limit effort="100" lower="-0.1784" upper="0.192" velocity="100"/>
  </joint>
  <joint name="s_model_palm_finger_2_joint" type="revolute">
    <parent link="s_model_palm"/>
    <child link="s_model_finger_2_link_0"/>
    <axis xyz="0 1 0"/>
    <origin rpy="0 3.1416 -1.57" xyz="-0.0455 0.0214 -0.036"/>
    <limit effort="100" lower="-0.192" upper="0.1784" velocity="100"/>
  </joint>
  <joint name="s_model_palm_finger_middle_joint" type="fixed">
    <parent link="s_model_palm"/>
    <child link="s_model_finger_middle_link_0"/>
    <axis xyz="0 0 1"/>
    <origin rpy="0 0 1.57" xyz="0.0455 0.0214 0"/>
  </joint>
  <joint name="s_model_palm_tool0" type="fixed">
    <parent link="s_model_palm"/>
    <child link="s_model_tool0"/>
    <origin rpy="0 0 1.5707" xyz="0.0 0.0875 0.0"/>
  </joint>
  <!-- end of joint list -->
  <joint name="gripper_joint" type="fixed">
    <parent link="tool0"/>
    <child link="s_model_palm"/>
    <origin rpy="0.0 0.0 -1.570796325" xyz="0.0775 0.0 0.0"/>
  </joint>
  <!-- plug collision model -->
  <!-- gripper plugs  -->
  <link name="plug_collision_model_link_1">
    <!-- TODO values for inertial are not correct -->
    <inertial>
      <mass value="0.2"/>
      <origin xyz="0.0 0.0 0.0"/>
      <inertia ixx="0.002708332" ixy="0.0" ixz="0.0" iyy="0.000708333" iyz="0.0" izz="0.003333332"/>
    </inertial>
    <collision>
      <origin rpy="0.0 0.0 0.0" xyz="0.065 0.065 0.0"/>
      <geometry>
        <box size="0.05 0.10 0.075"/>
      </geometry>
    </collision>
  </link>
  <joint name="plug_collision_model_link_1_joint" type="fixed">
    <origin rpy="0.0 0.0 0.0" xyz="0.0 0.0 0.0"/>
    <child link="plug_collision_model_link_1"/>
    <parent link="ur5_ee_link"/>
  </joint>
  <!-- force torque plug -->
  <link name="plug_collision_model_link_2">
    <!-- TODO values for inertial are not correct -->
    <inertial>
      <mass value="0.2"/>
      <origin xyz="0.0 0.0 0.0"/>
      <inertia ixx="0.002708332" ixy="0.0" ixz="0.0" iyy="0.000708333" iyz="0.0" izz="0.003333332"/>
    </inertial>
    <collision>
      <origin rpy="0.0 0.0 0.0" xyz="0.025 -0.01 0.09"/>
      <geometry>
        <box size="0.03 0.06 0.06"/>
      </geometry>
    </collision>
  </link>
  <joint name="plug_collision_model_link_2_joint" type="fixed">
    <origin rpy="0.0 0.0 0.0" xyz="0.0 0.0 0.0"/>
    <child link="plug_collision_model_link_2"/>
    <parent link="ur5_ee_link"/>
  </joint>
  <link name="world"/>
  <joint name="world_floor_joint" type="fixed">
    <parent link="world"/>
    <child link="floor"/>
    <origin rpy="0.0 0.0 0.0" xyz="0.0 0.0 0.0"/>
  </joint>
  <link name="map"/>
  <joint name="map_world" type="fixed">
    <parent link="world"/>
    <child link="map"/>
    <origin rpy="0.0 0.0 -0.32" xyz="0.9 1.3 0.0"/>
  </joint>
  <joint name="wall_ur5_joint" type="fixed">
    <parent link="ur5_mount"/>
    <child link="ur5_base_link"/>
    <origin rpy="0.0 0.0 1.570796325" xyz="0 0 0.003"/>
  </joint>
</robot>
